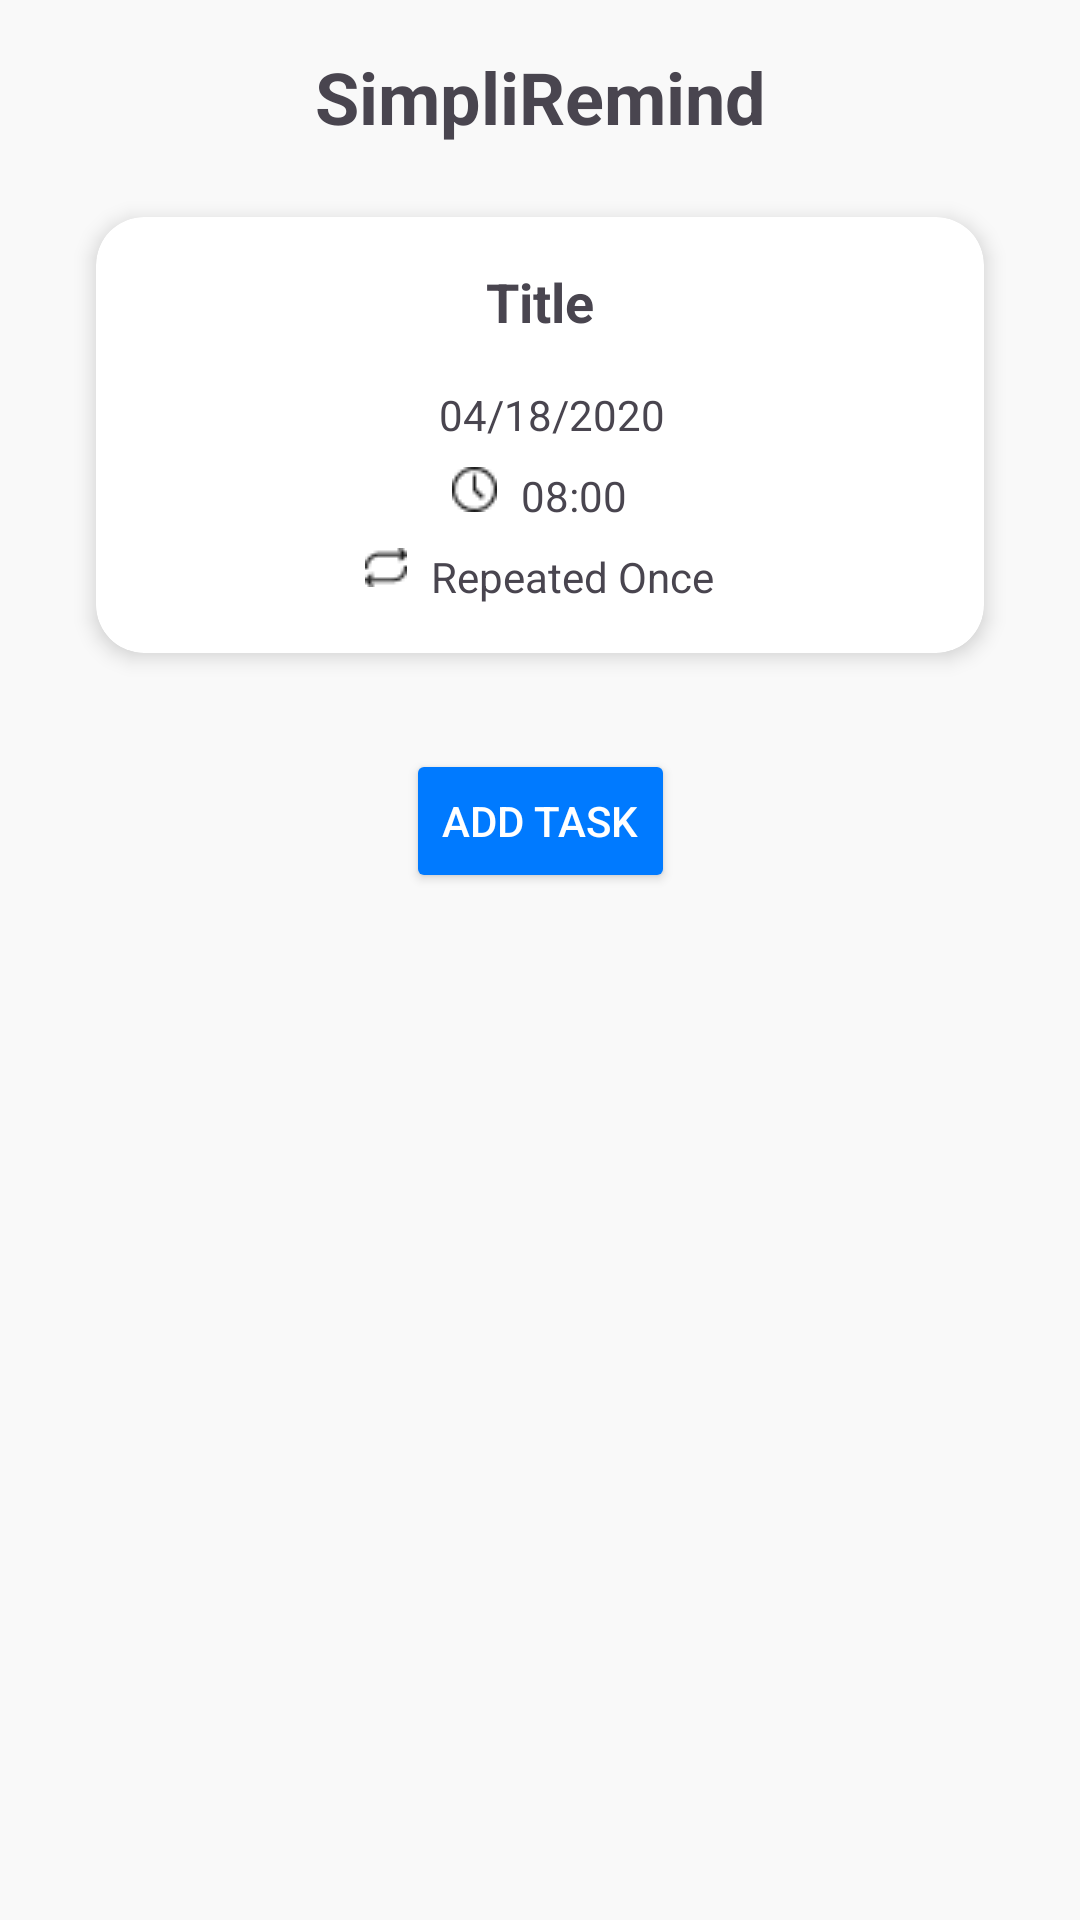

Icon click points for this 1080*1920 phone screenshot, format point (x, y):
Clock icon: point (474, 489)
Repeat icon: point (386, 567)
